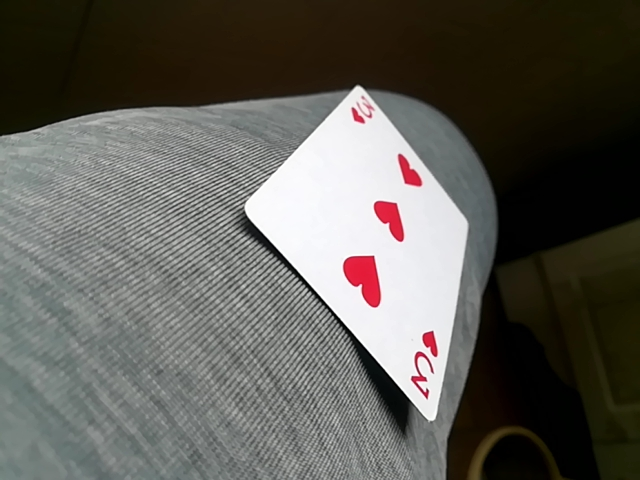hx 3: (234, 80, 479, 422)
